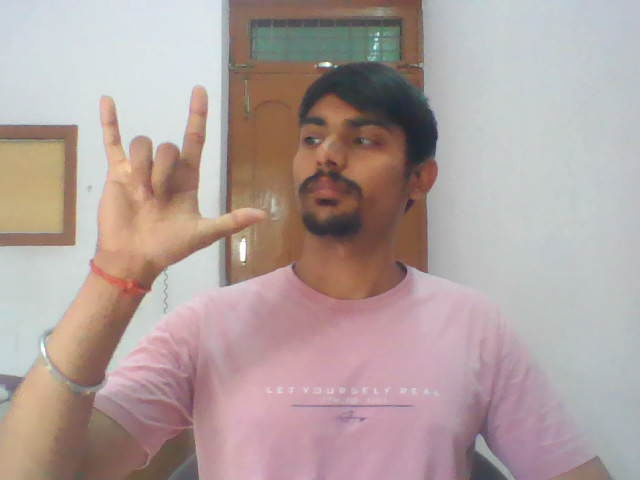I Love You: (92, 82, 267, 262)
